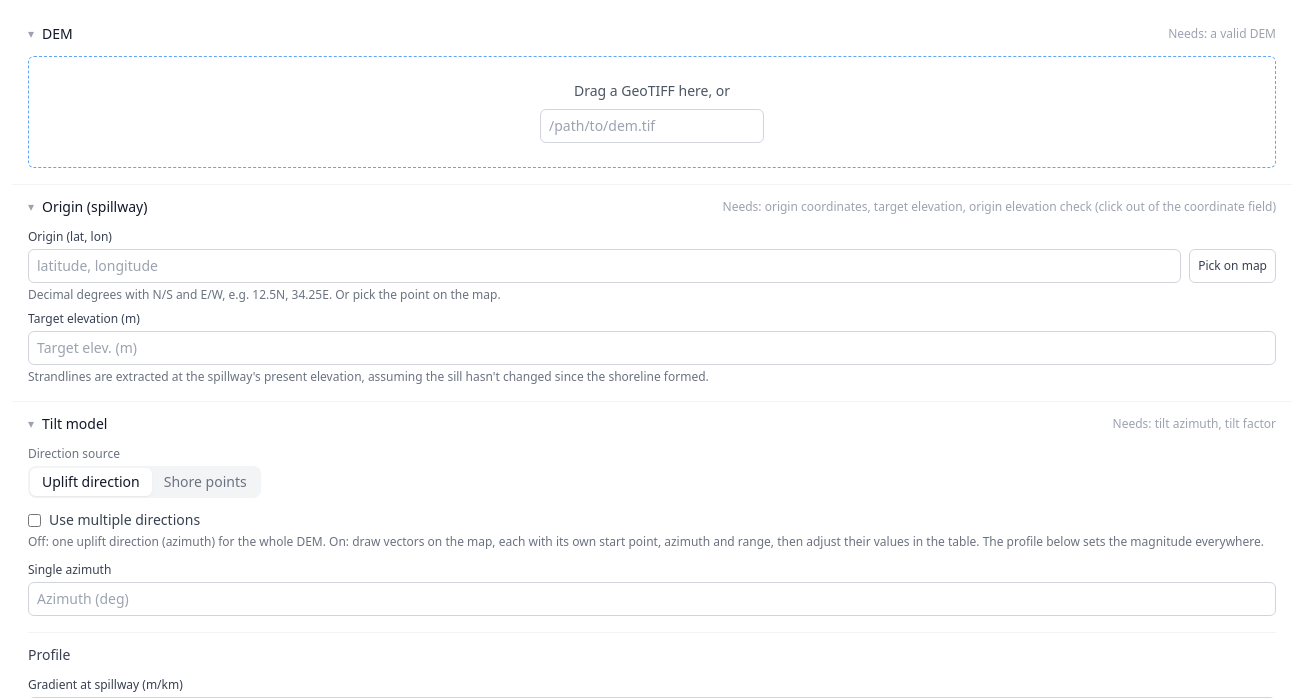
Test: AdvancedForm upload section › stays mounted while collapsed; the other sections unmount
Click the button "▾ DEM Needs: a valid DEM": (57, 34) [12,12,1292,56]
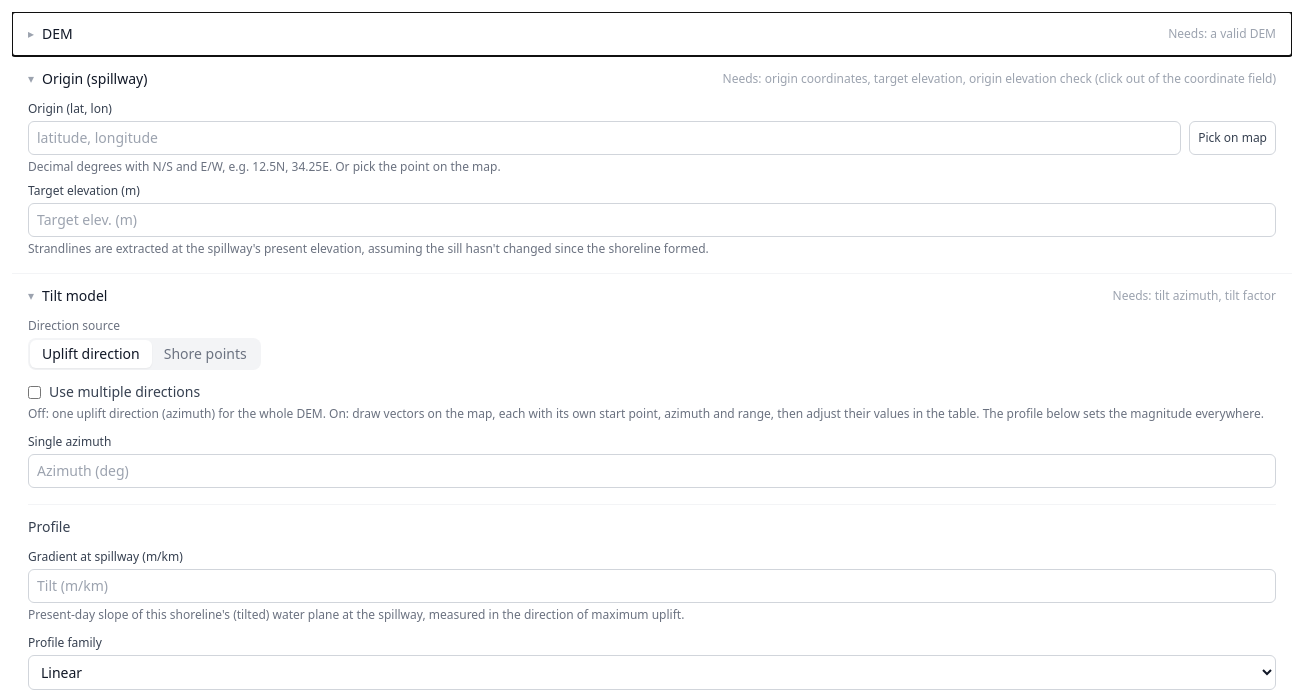
Expected: the field with placeholder "/path/to/dem.tif" is not shown
Click the button "▾ Tilt model Needs: tilt azimuth, tilt factor": (75, 296) [12,274,1292,318]
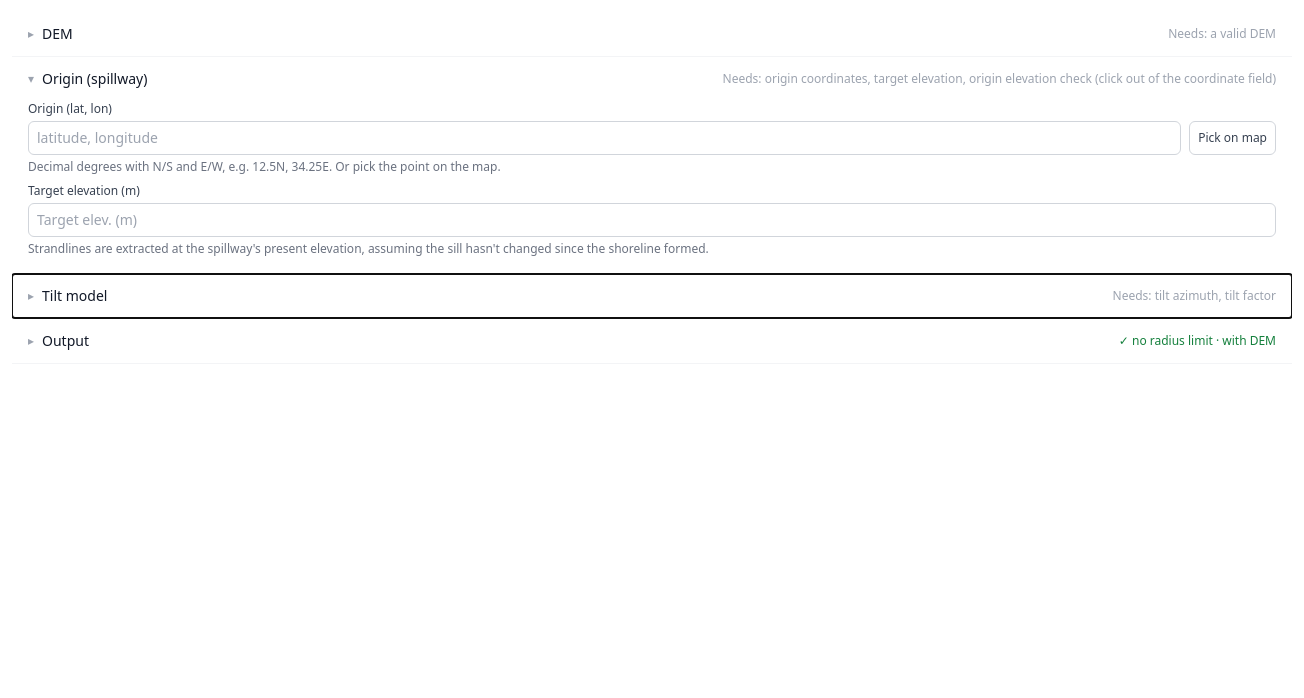
Expected: the text labelled "Single azimuth" is gone
